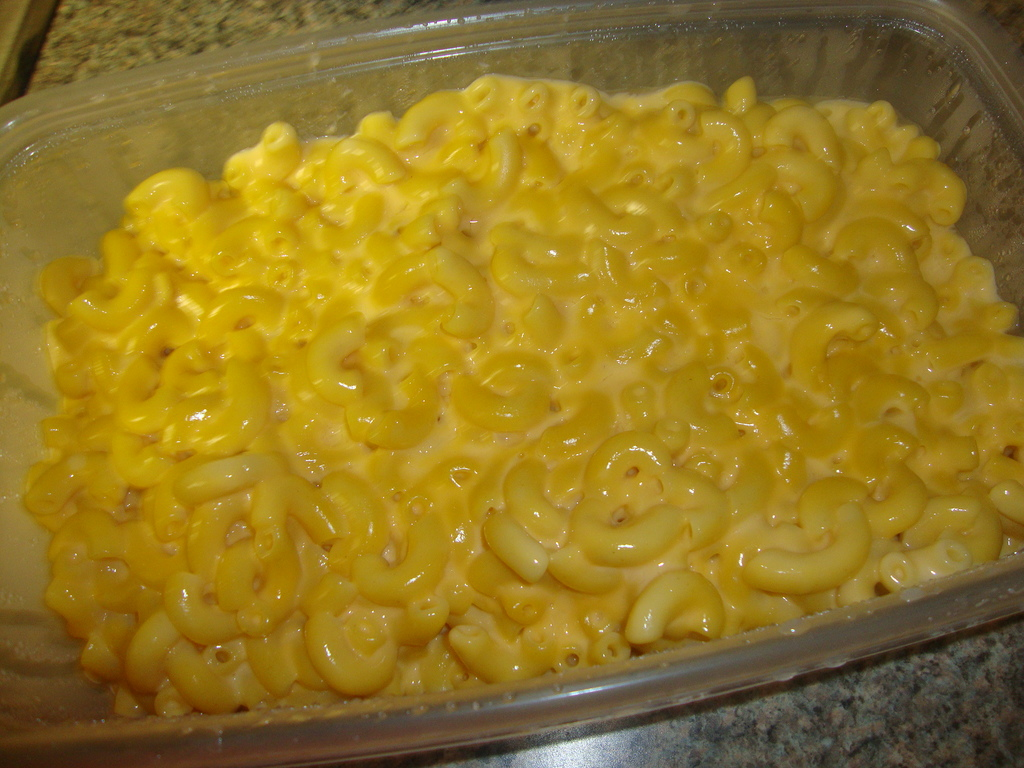pasta: (8, 54, 975, 763)
